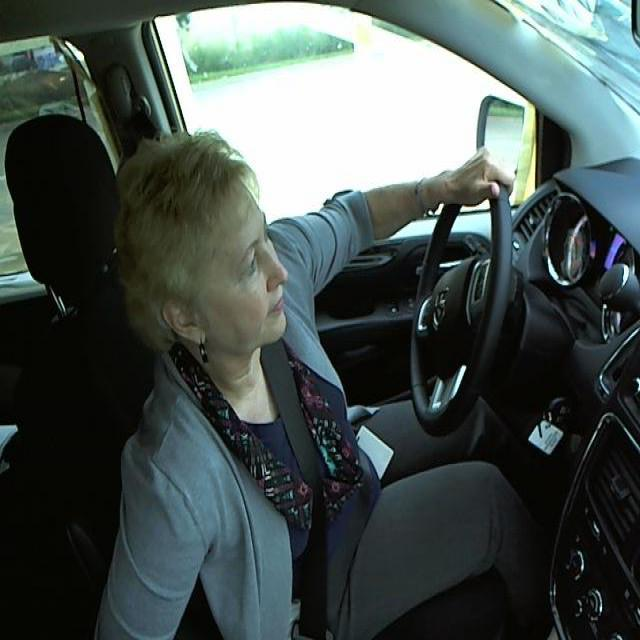seatbelt: (261, 356, 338, 620)
